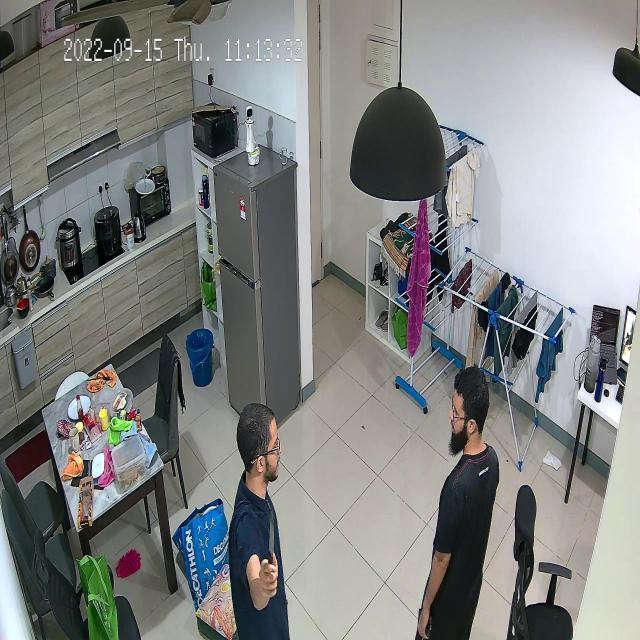Knife: (253, 508, 286, 577)
